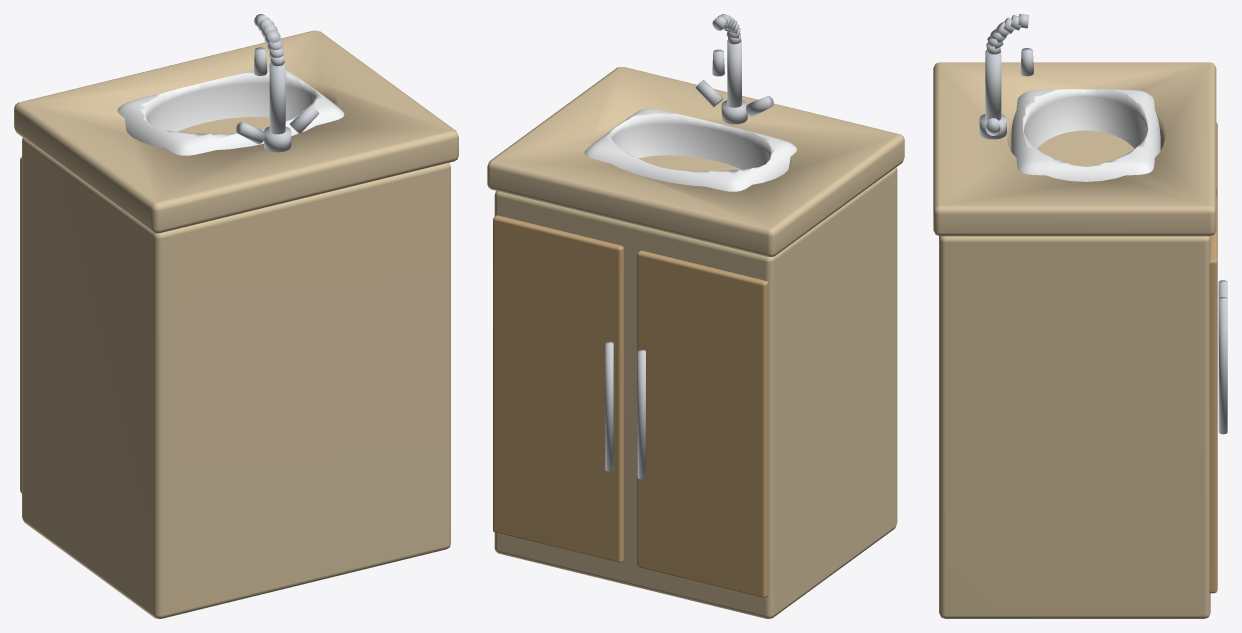
File: basin.glb
3 renders of one model, left to right at view 1: azimuth 30°, elevation 25°; view 2: azimuth 150°, elevation 25°; view 3: azimuth 270°, elevation 25°, orthographic. The views are drawn at different scales.
Visible parts, largest first — view 1: cabinet; view 2: cabinet; view 3: cabinet.
Boxes of the visible parts, <box> form: cabinet: <box>14,14,458,618</box>; cabinet: <box>487,14,904,618</box>; cabinet: <box>933,14,1227,618</box>.
Size of the model in its own units: 0.62 by 1.04 by 0.52.
